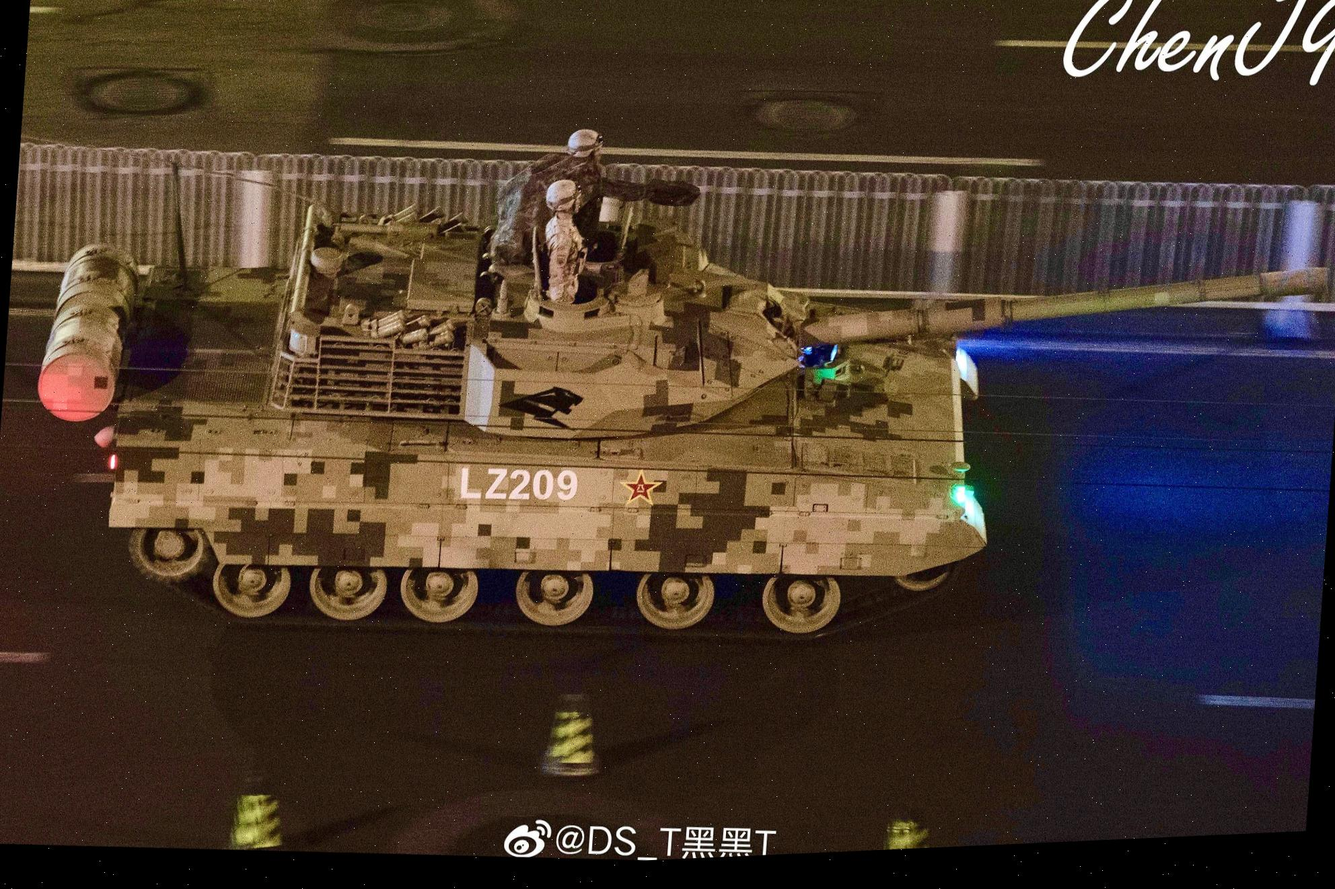tank: (17, 85, 1335, 713)
